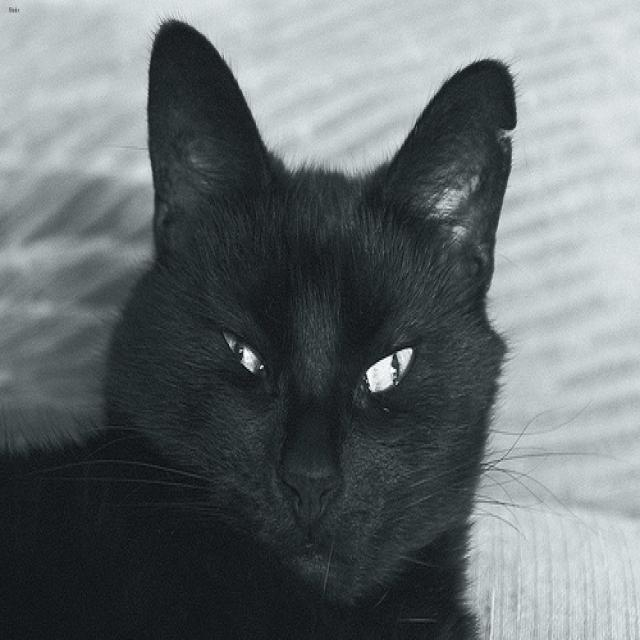cat: (110, 18, 513, 602)
